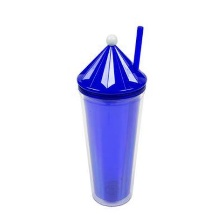drinking_straw: (128, 22, 150, 74)
glass: (61, 29, 160, 213)
